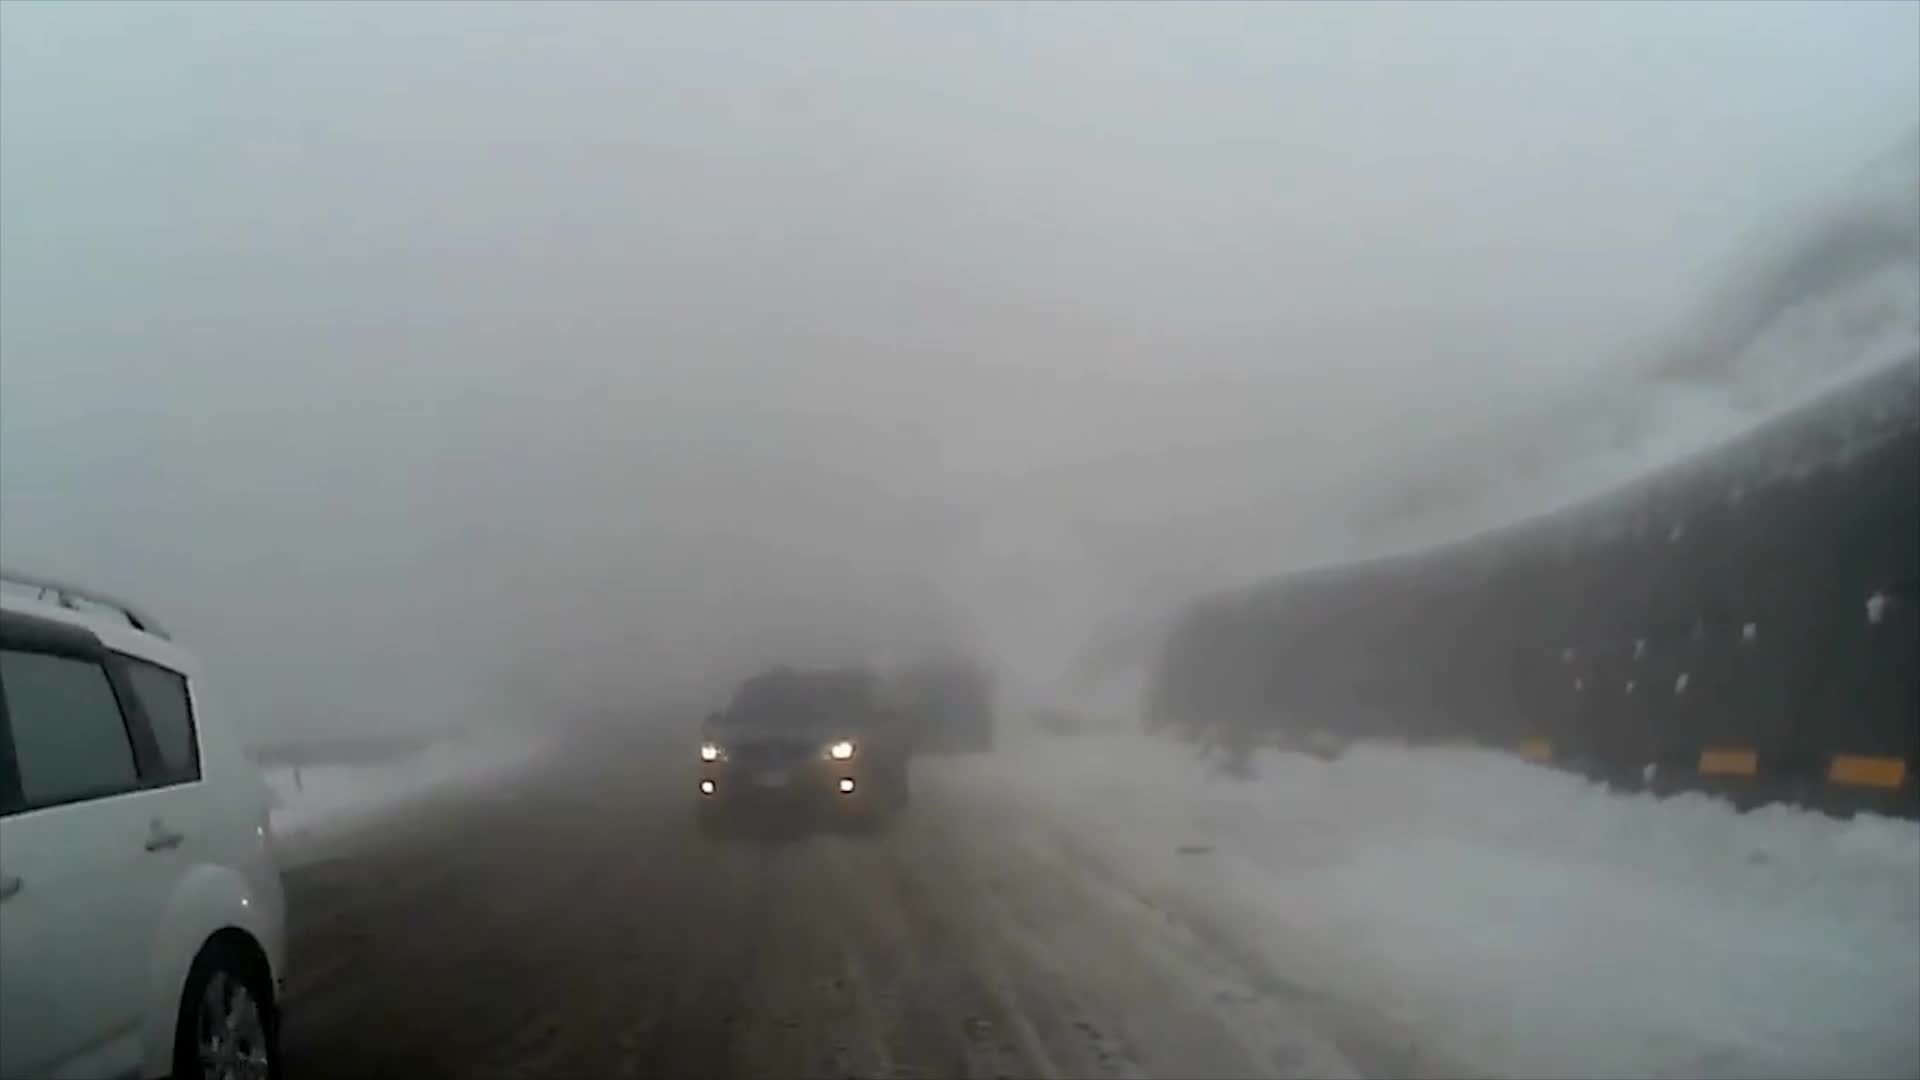vehicle: (0, 571, 291, 1080), (690, 661, 909, 837)
